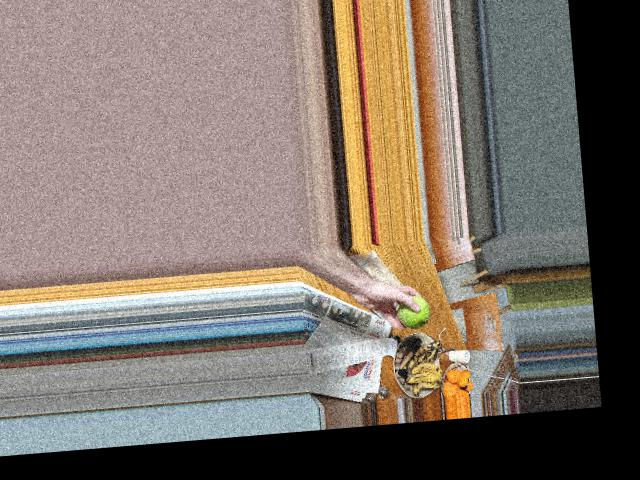apple: (390, 297, 432, 331)
